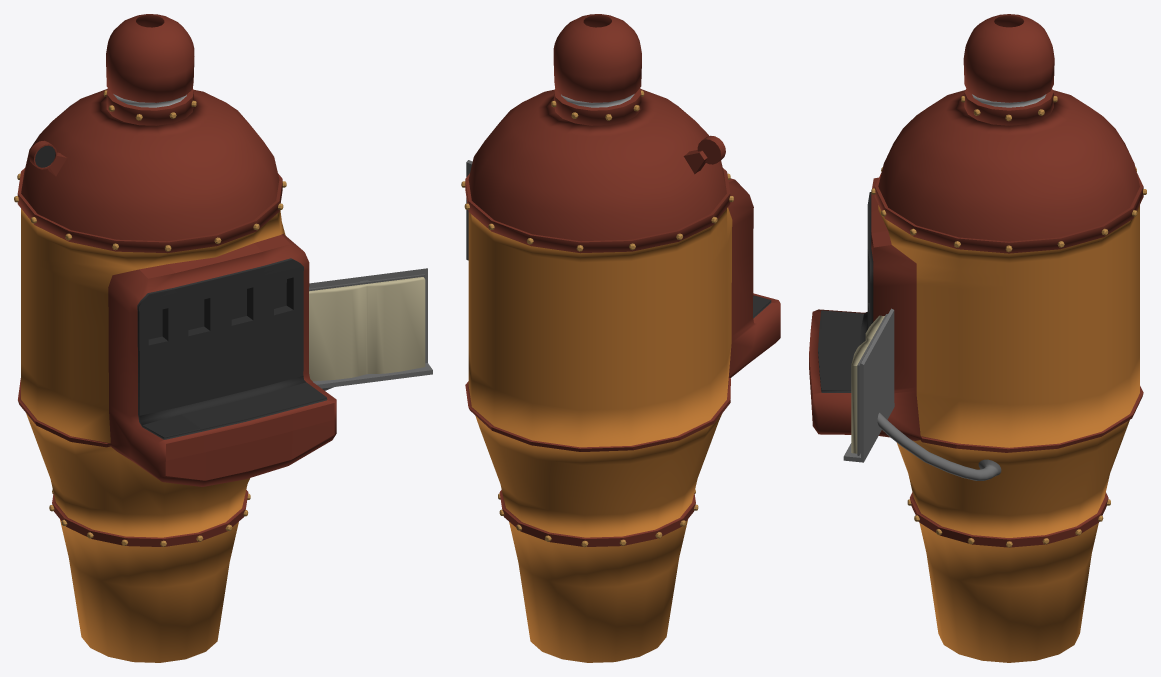
The model's file is Number_Machine.fbx.
3 views of the same model, side by side, from view 1: azimuth 30°, elevation 25°; view 2: azimuth 150°, elevation 25°; view 3: azimuth 270°, elevation 25° (orthographic).
Visible parts, largest first — view 1: Cylinder, Cube.002, Cube.001, Cylinder.001; view 2: Cylinder, Cylinder.001; view 3: Cylinder, Cube.001, Cylinder.011, Cube.002.
Part boxes in pixels (x1,y1,x2,y2): Cylinder: [17, 14, 336, 662]; Cube.002: [309, 274, 425, 381]; Cube.001: [309, 268, 432, 388]; Cylinder.001: [29, 140, 57, 169]; Cylinder: [465, 14, 780, 662]; Cylinder.001: [697, 135, 725, 164]; Cylinder: [809, 14, 1143, 662]; Cube.001: [843, 308, 894, 462]; Cylinder.011: [877, 412, 1001, 480]; Cube.002: [851, 314, 887, 455].
Size of the model in its own units: 714 by 1279 by 640.
